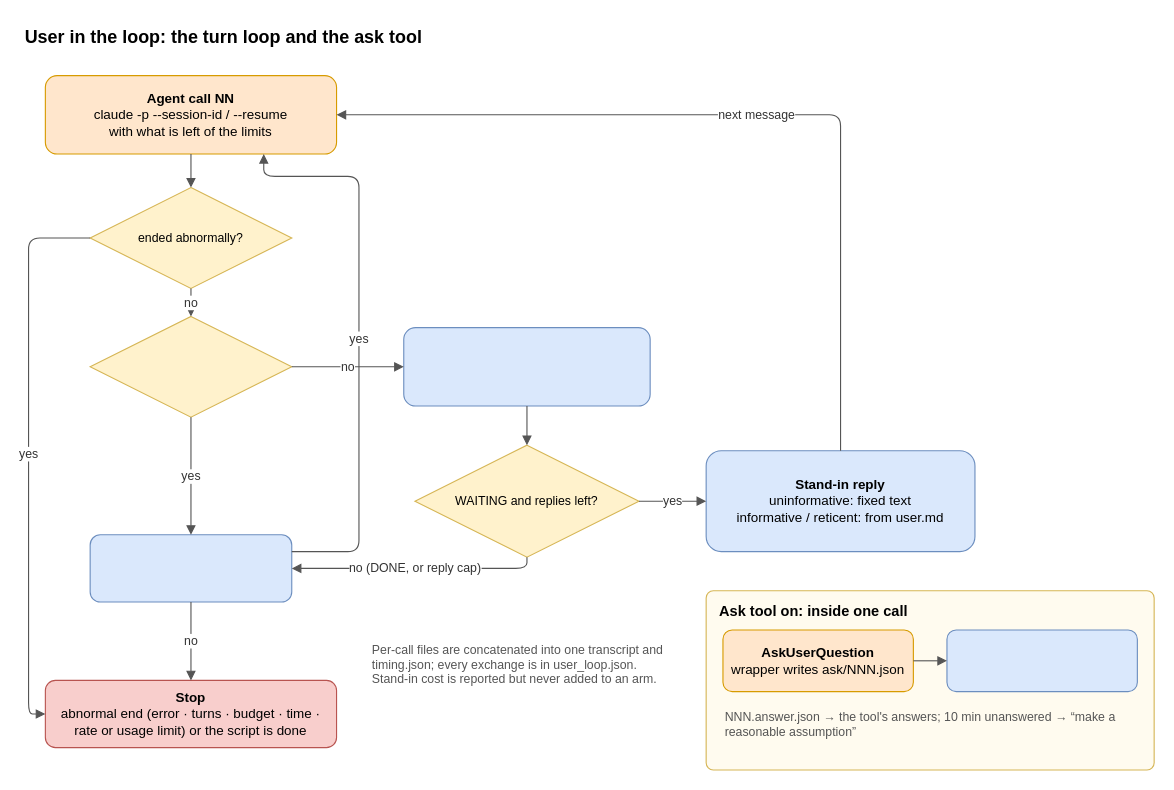
Image size: 1174x790. Some labels were removed from this diagram. Here are the shapes that lost their labels. From the top down, the centre of each, then its label:
(190,366): conventional mode?
(526,366): Stand-in: classify WAITING or DONE (never sees the brief)
(190,568): Next scripted turn? [workflow] turns
(1041,660): Controller polls every 2 s, stand-in answers
